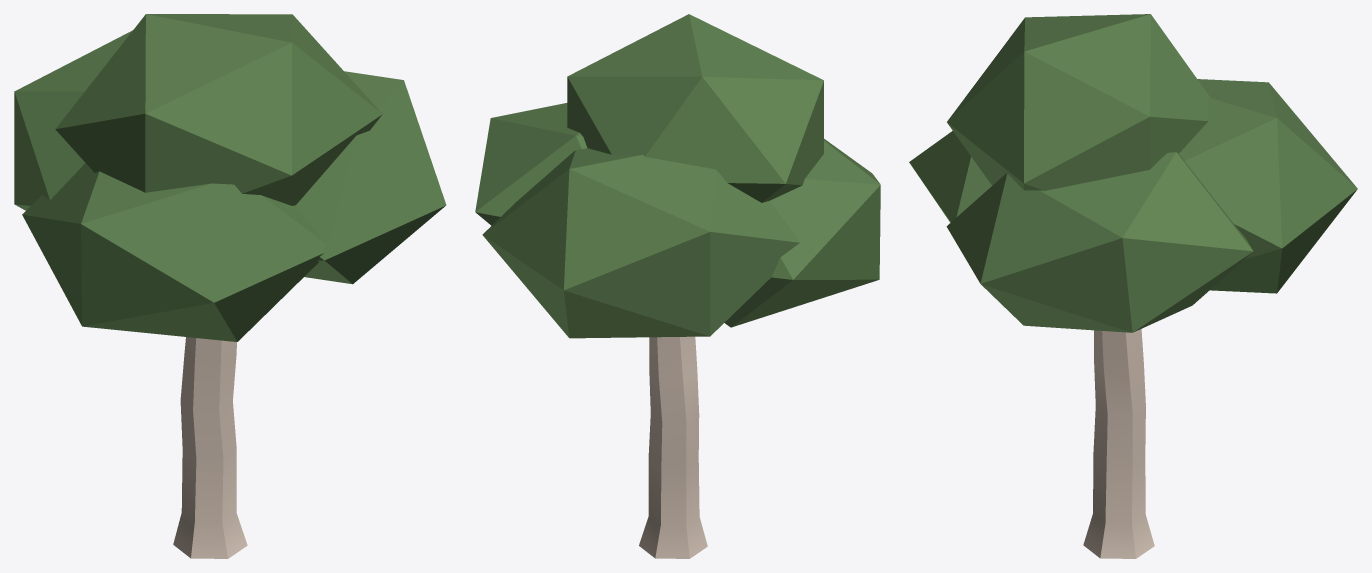
Rendered from Rubber Tree.fbx.
3 renders of one model, left to right at view 1: azimuth 30°, elevation 25°; view 2: azimuth 150°, elevation 25°; view 3: azimuth 270°, elevation 25°, orthographic. The views are drawn at different scales.
Parts seen in each view (by area): view 1: Rubber_Tree; view 2: Rubber_Tree; view 3: Rubber_Tree.
Boxes of the visible parts, box(x1,y1,x2,y2) form: Rubber_Tree: box(14, 14, 446, 558); Rubber_Tree: box(475, 14, 880, 558); Rubber_Tree: box(909, 14, 1357, 558).
Bounding box in the file's own units: 5.58 × 7.53 × 6.02.
